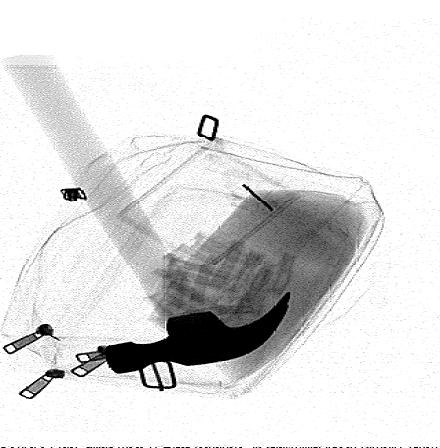Hammer: (1, 53, 293, 375)
